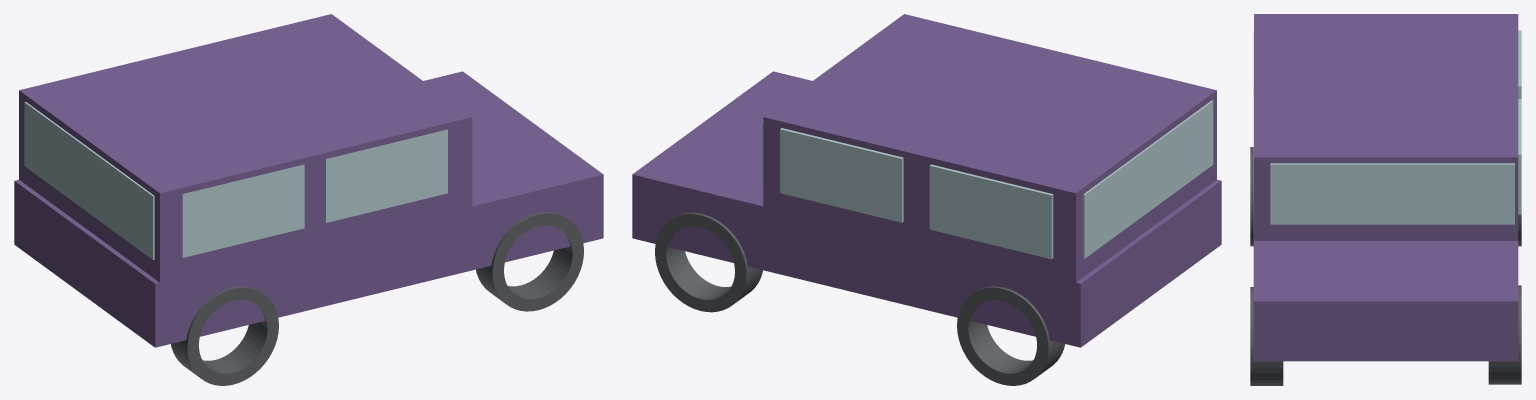
File: cocheMoradoCubo.glb
The picture shows the model from 3 angles, left to right: view 1: azimuth 30°, elevation 25°; view 2: azimuth 150°, elevation 25°; view 3: azimuth 270°, elevation 25°; orthographic projection. The views are drawn at different scales.
Visible parts, largest first — view 1: Mesh_Mesh_head_geo.001_lambert2SG.001; view 2: Mesh_Mesh_head_geo.001_lambert2SG.001; view 3: Mesh_Mesh_head_geo.001_lambert2SG.001.
Boxes of the visible parts, <box> form: Mesh_Mesh_head_geo.001_lambert2SG.001: <box>14,14,603,385</box>; Mesh_Mesh_head_geo.001_lambert2SG.001: <box>632,14,1221,385</box>; Mesh_Mesh_head_geo.001_lambert2SG.001: <box>1250,14,1521,385</box>.
Size of the model in its own units: 0.147 by 0.065 by 0.082.
